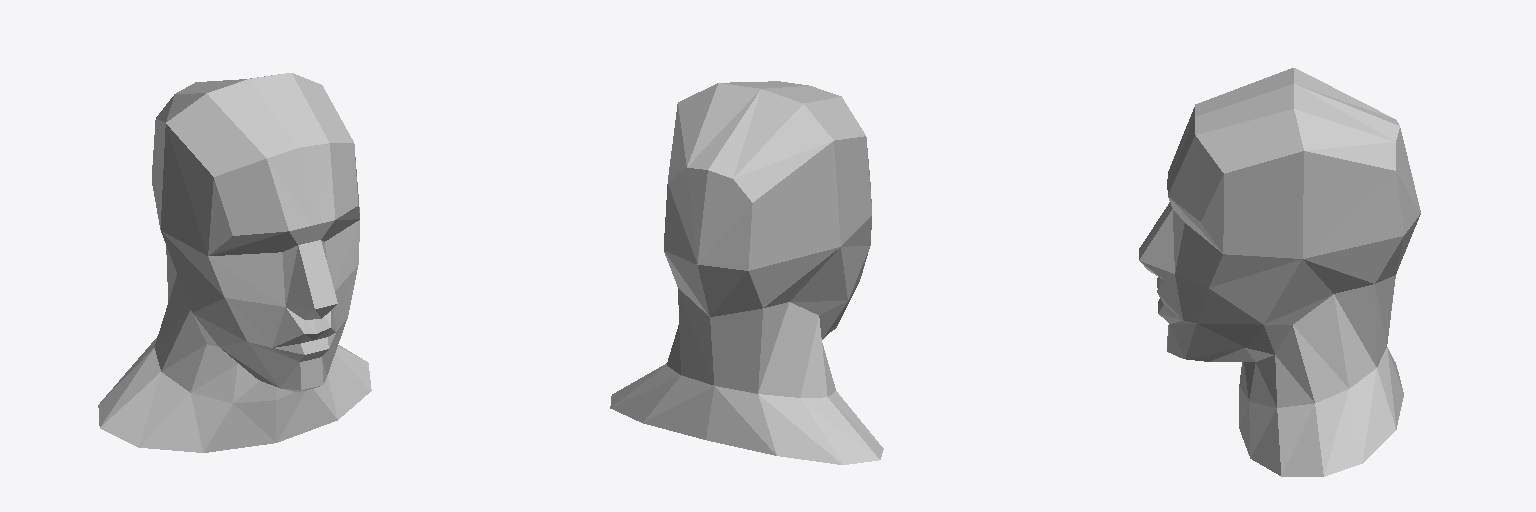
Rendered from head.obj.
3 views of the same model, side by side, from view 1: azimuth 30°, elevation 25°; view 2: azimuth 150°, elevation 25°; view 3: azimuth 270°, elevation 25° (orthographic).
Visible parts, largest first — view 1: Base.006_Cylinder.006; view 2: Base.006_Cylinder.006; view 3: Base.006_Cylinder.006.
Part boxes in pixels (x1,y1,x2,y2): Base.006_Cylinder.006: (98, 73, 371, 452); Base.006_Cylinder.006: (610, 81, 883, 464); Base.006_Cylinder.006: (1139, 68, 1420, 476).
Bounding box in the file's own units: 0.3634 × 0.4445 × 0.3304.